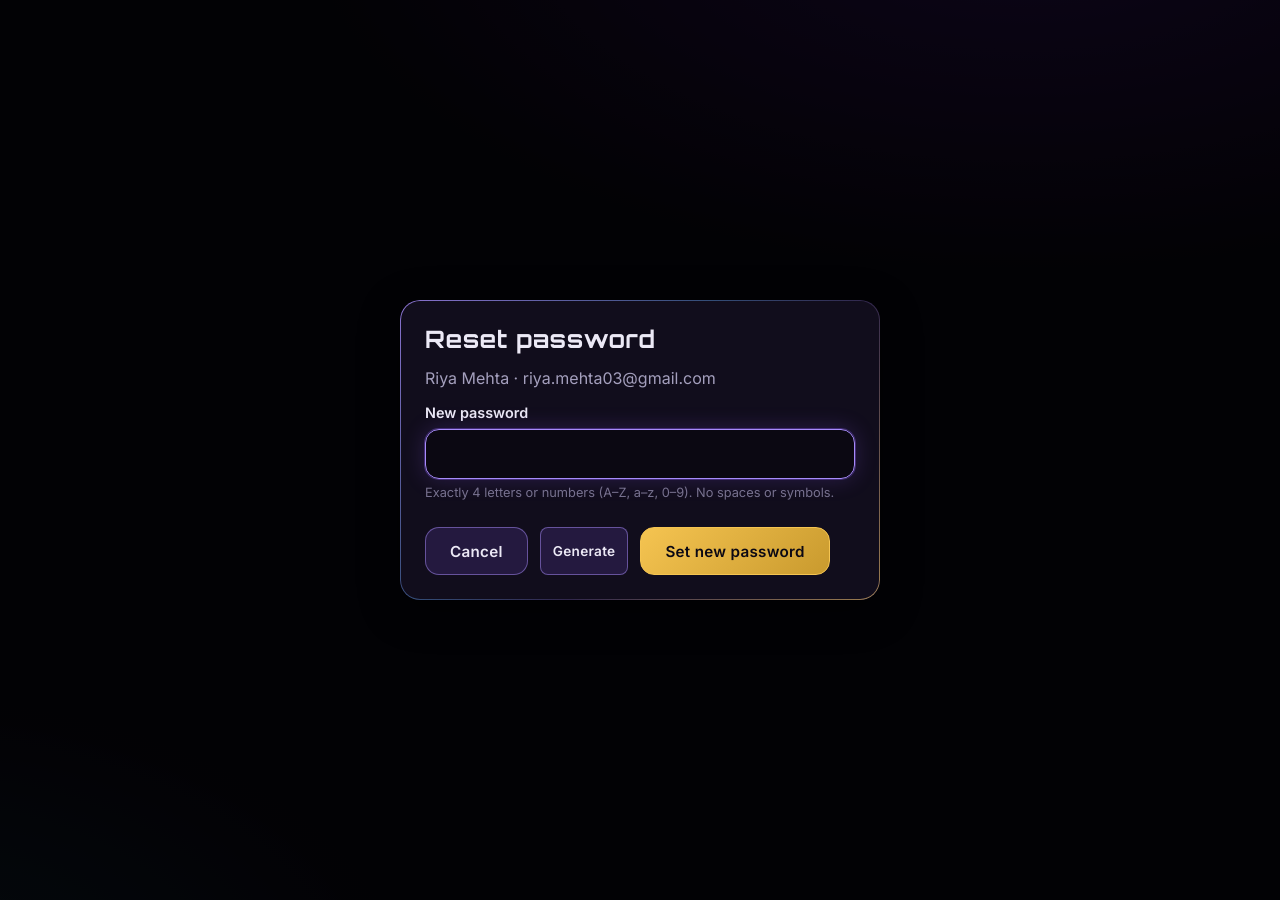
Test case: ResetPasswordDialog › validates, saves and confirms the reset
The image size is (1280, 900).
Type "Zz9" into the field labelled "New password".
click(640, 454); type("Zz9")  # box [425,429,855,479]
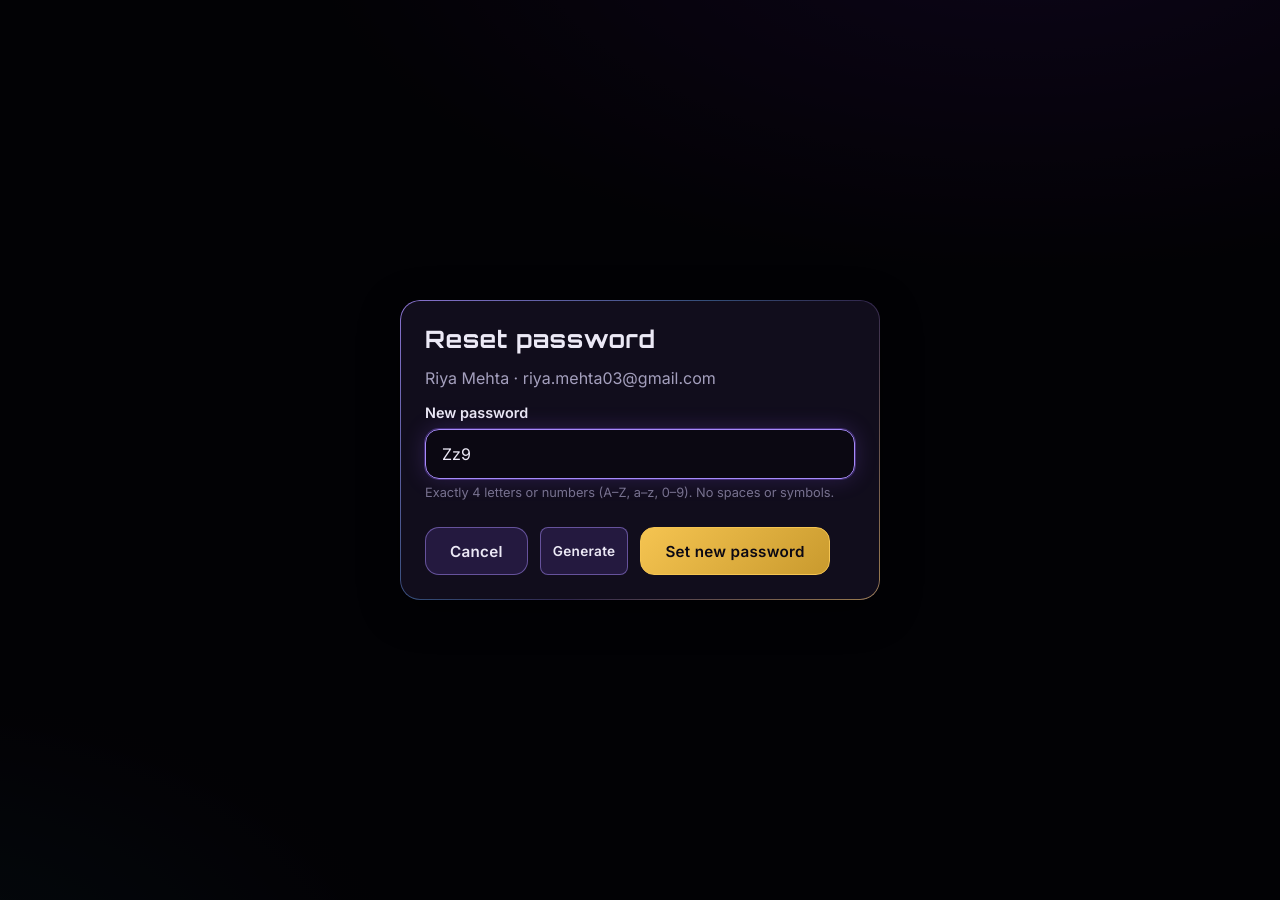
Click the button "Set new password".
click(735, 551)  # box [640,527,830,575]
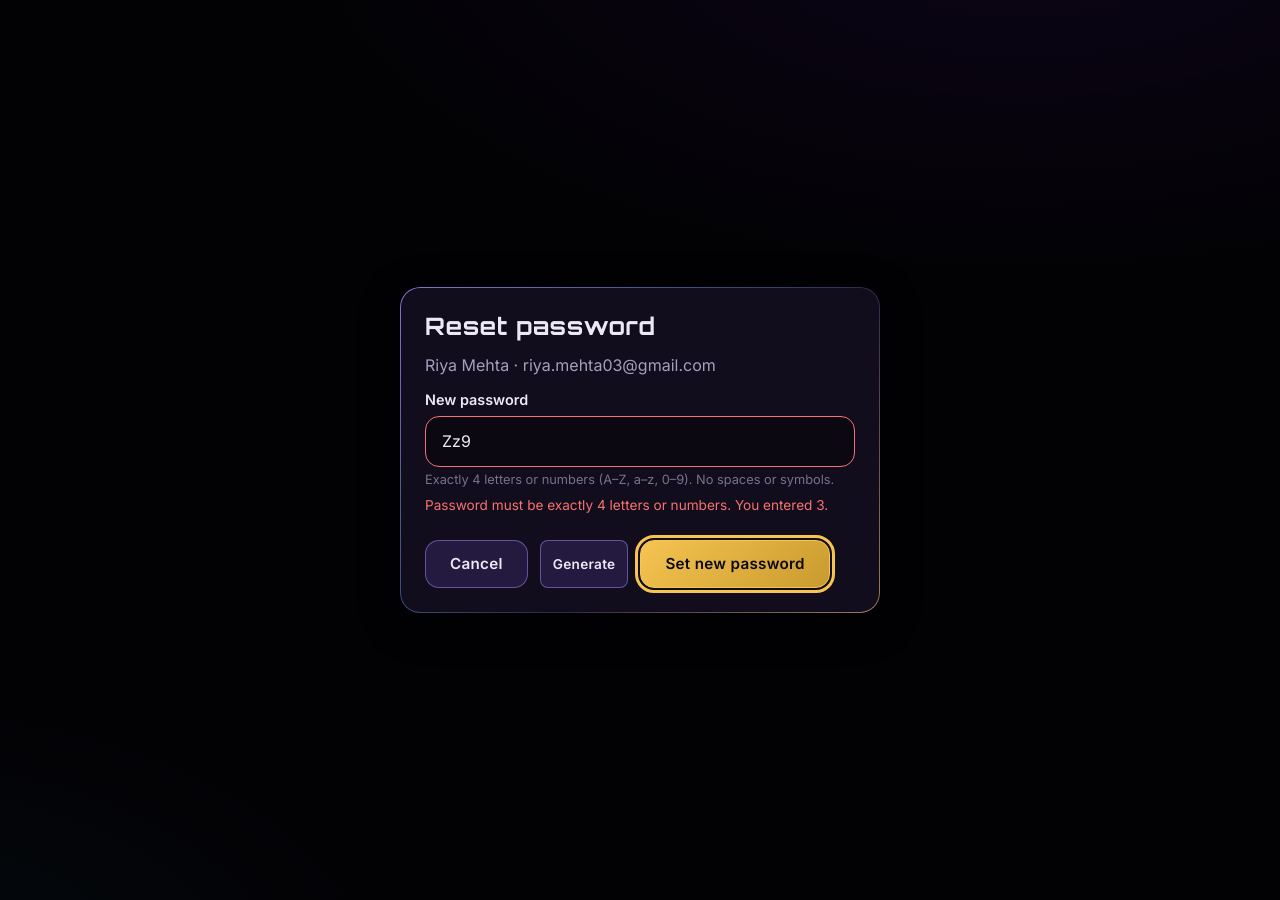
Expected: the text "You entered 3" is shown, [425,497,828,513]
Type "9" into the field labelled "New password".
click(640, 442); type("9")  # box [425,416,855,467]
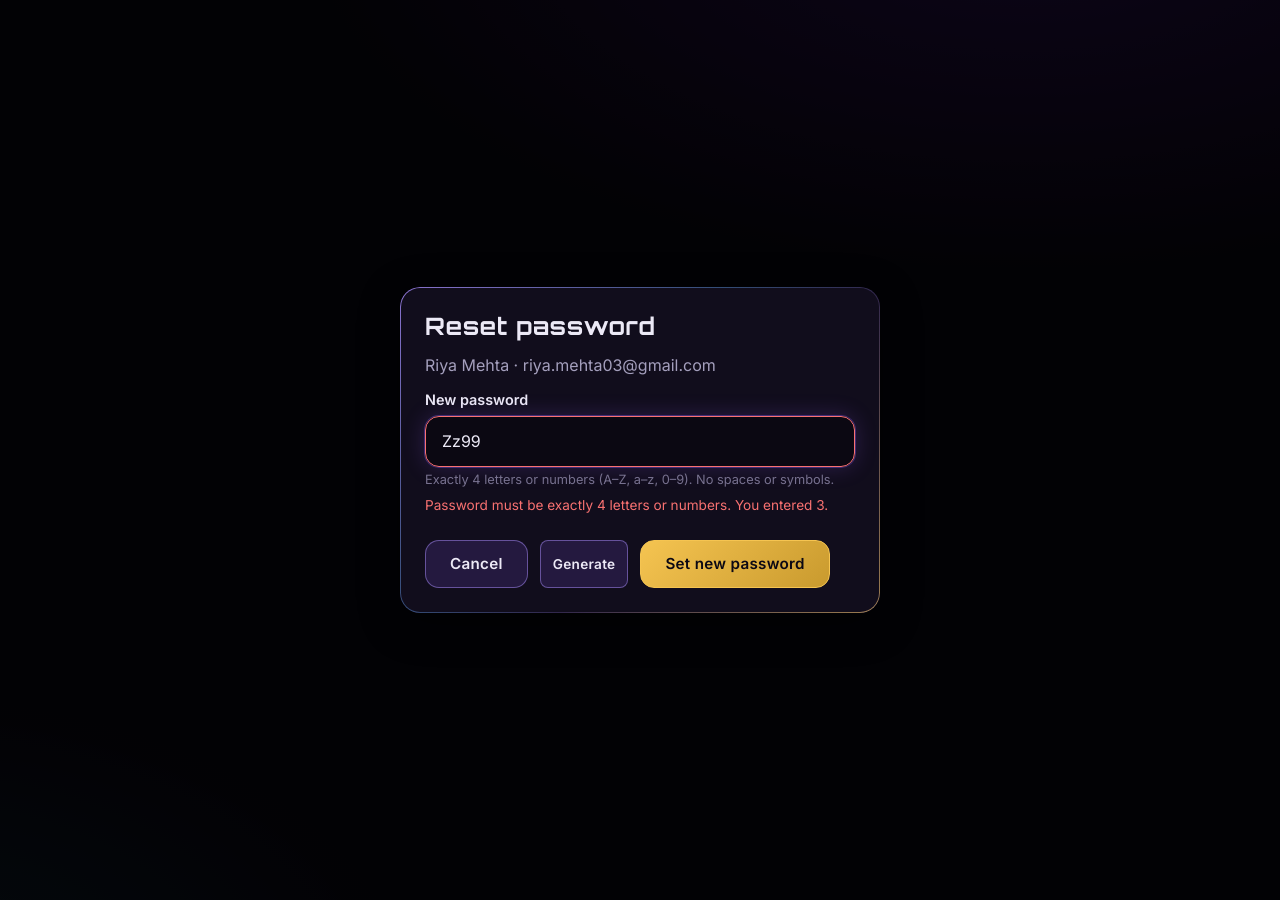
Click the button "Set new password".
click(735, 564)  # box [640,540,830,588]
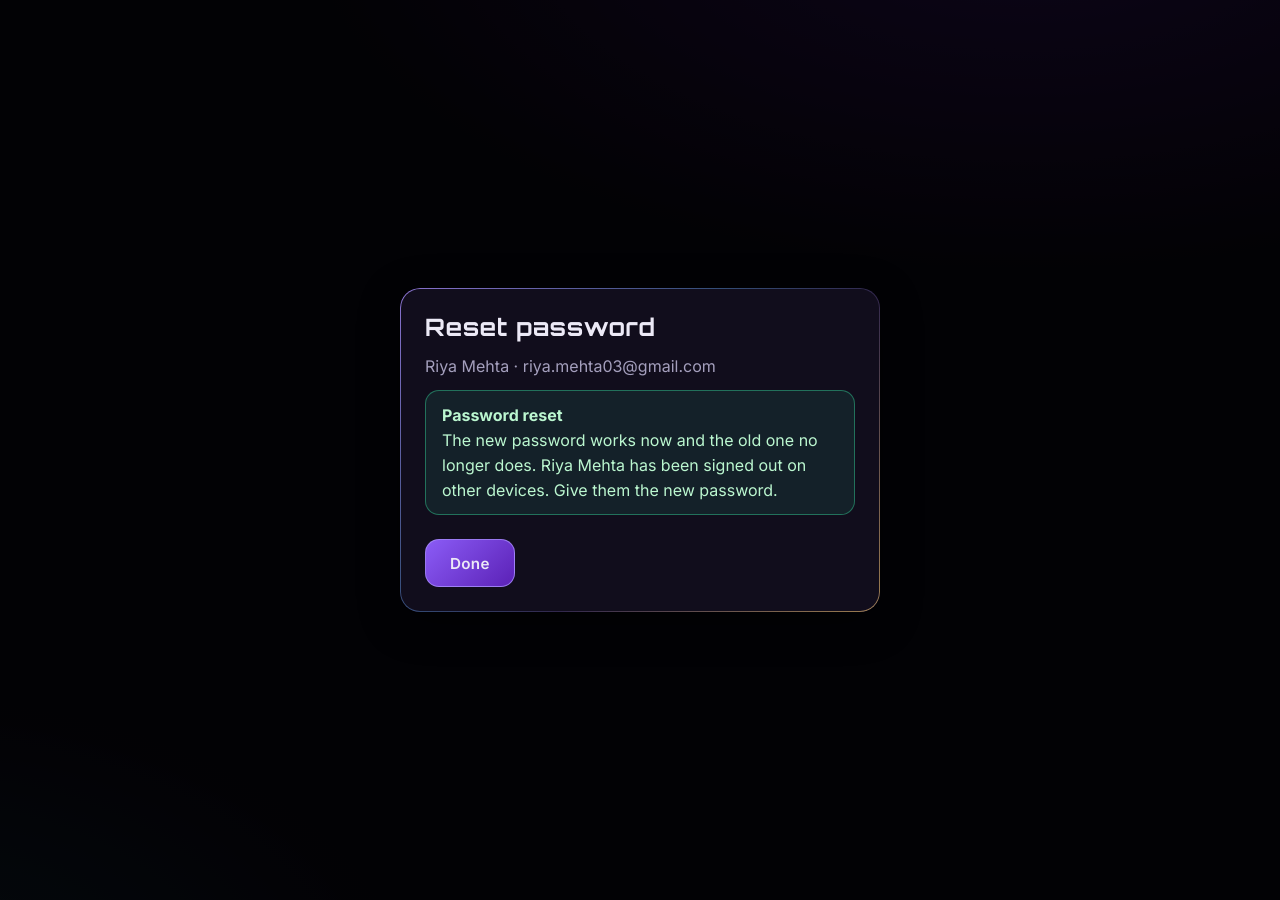
Expected: the text "Password reset" is shown, [442,405,563,425]
